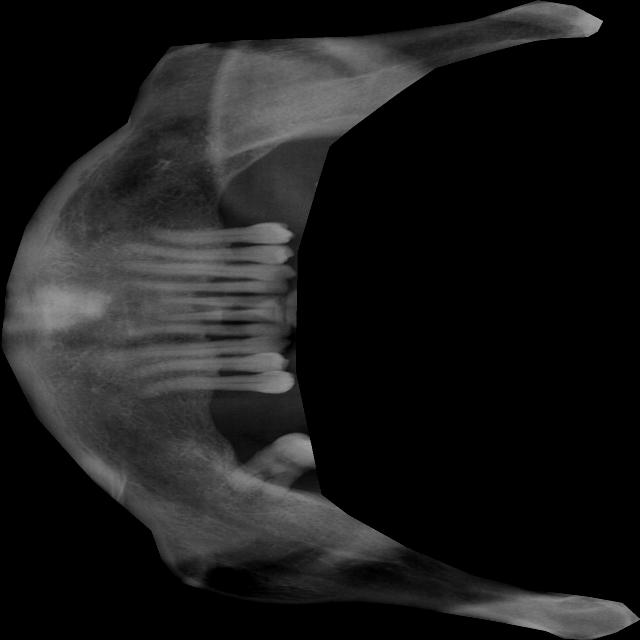mandibula: (0, 0, 640, 640)
